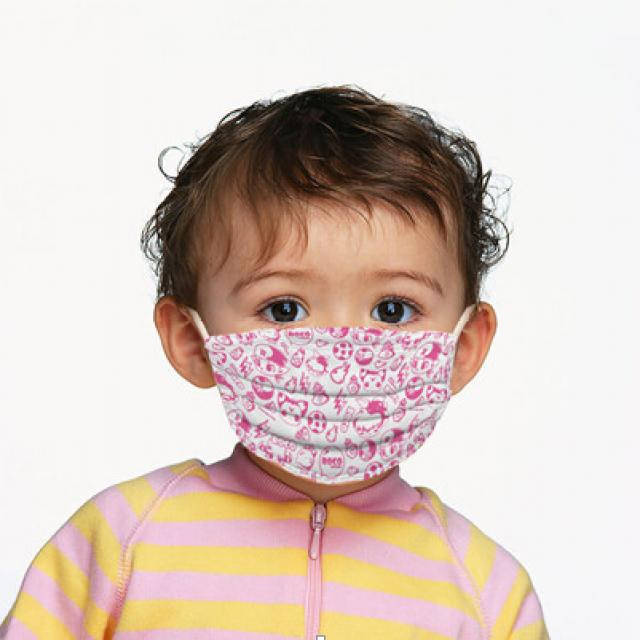mask: (205, 172, 456, 473)
